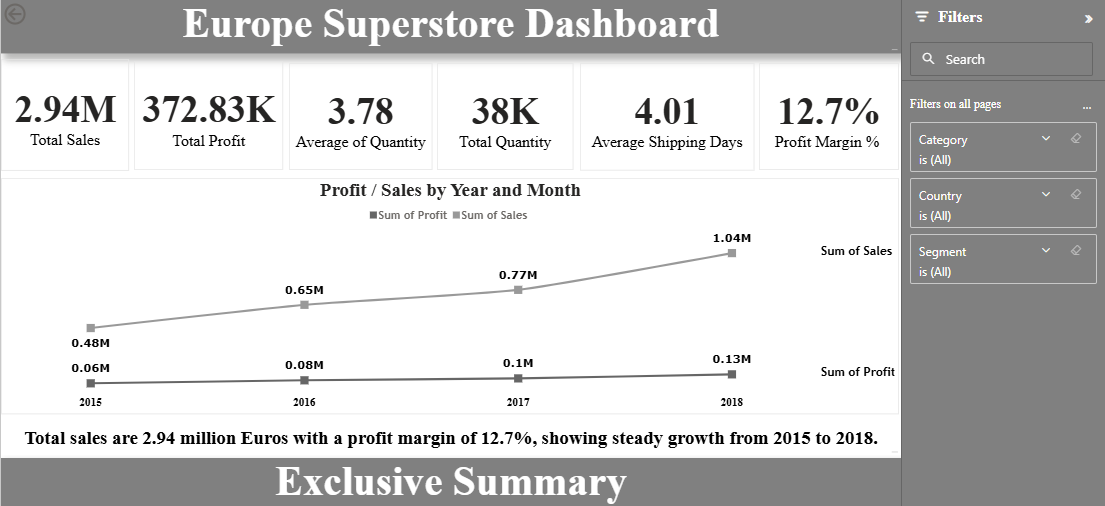

What the dashboard file says about the page in this screenshot:
{"tool":"powerbi","page":{"name":"Exclusive Summary","canvas":[1280,720],"ordinal":0},"visuals":[{"type":"textbox","title":"Europe Superstore Dashboard","box":[0,0,1280,75.9],"z":0},{"type":"card","title":"Total Sales","fields":{"Values":["Sum(Orders.Sales)"]},"box":[0,83.3,182.1,158.5],"z":1000,"group":"g1"},{"type":"textbox","title":"Exclusive Summary","box":[0,650.9,1280.2,69.1],"z":1000},{"type":"lineChart","title":"Profit / Sales by Year and Month","fields":{"Category":["Orders.Order Date.Variation.Date Hierarchy.Year","Orders.Order Date.Variation.Date Hierarchy.Month"],"Y":["Sum(Orders.Profit)","Sum(Orders.Sales)"]},"box":[0,253,1276.6,335.6],"z":2000},{"type":"actionButton","box":[0,0,100,40],"z":3000},{"type":"card","title":"Total Sales","fields":{"Values":["Sum(Orders.Profit)"]},"box":[189.6,86.6,212.5,154.6],"z":3000,"group":"g1"},{"type":"group","id":"g1","title":"Group 1","box":[0,83.3,1276.6,158.7],"z":4000},{"type":"card","title":"Total Sales","fields":{"Values":["Avg(Orders.Quantity)"]},"box":[409.8,88.5,204.1,151.8],"z":5000,"group":"g1"},{"type":"textbox","title":"Total sales are 2.94 million Euros with a profit margin of 12.7%, showing steady growth from 2015 to 2018.","box":[0,607.1,1280,40.5],"z":5000},{"type":"card","title":"Total Sales","fields":{"Values":["Sum(Orders.Quantity)"]},"box":[620.6,88.5,193.9,151.8],"z":7000,"group":"g1"},{"type":"card","fields":{"Values":["Avg(Orders.Total Shipping Days)"]},"box":[823,88.5,247.9,153.5],"z":8000,"group":"g1"},{"type":"card","title":"Total Sales","fields":{"Values":["Orders.Profit Margin % (KPI)"]},"box":[1077.6,88.5,199,151.8],"z":12000,"group":"g1"}]}

Visuals, with their boxes on the page's 1280x720 design canvas (x1, y1, x2, y2). These are canvas units, not pixel positions in the 1105x506 screenshot, which may show the page scaled, cropped or inside an application window:
"Europe Superstore Dashboard" textbox: select_region(0, 0, 1280, 76)
"Total Sales" card: select_region(0, 83, 182, 242)
"Exclusive Summary" textbox: select_region(0, 651, 1280, 720)
"Profit / Sales by Year and Month" lineChart: select_region(0, 253, 1277, 589)
actionButton: select_region(0, 0, 100, 40)
"Total Sales" card: select_region(190, 87, 402, 241)
"Group 1" group: select_region(0, 83, 1277, 242)
"Total Sales" card: select_region(410, 88, 614, 240)
"Total sales are 2.94 million Euros with a profit margin of 12.7%, showing steady growth from 2015 to 2018." textbox: select_region(0, 607, 1280, 648)
"Total Sales" card: select_region(621, 88, 814, 240)
card - Avg(Orders.Total Shipping Days): select_region(823, 88, 1071, 242)
"Total Sales" card: select_region(1078, 88, 1277, 240)
